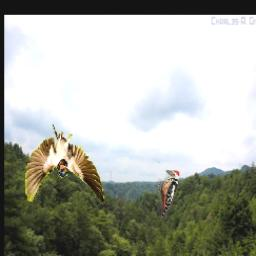Swallow: (26, 125, 105, 203)
Woodpecker: (158, 171, 179, 221)
